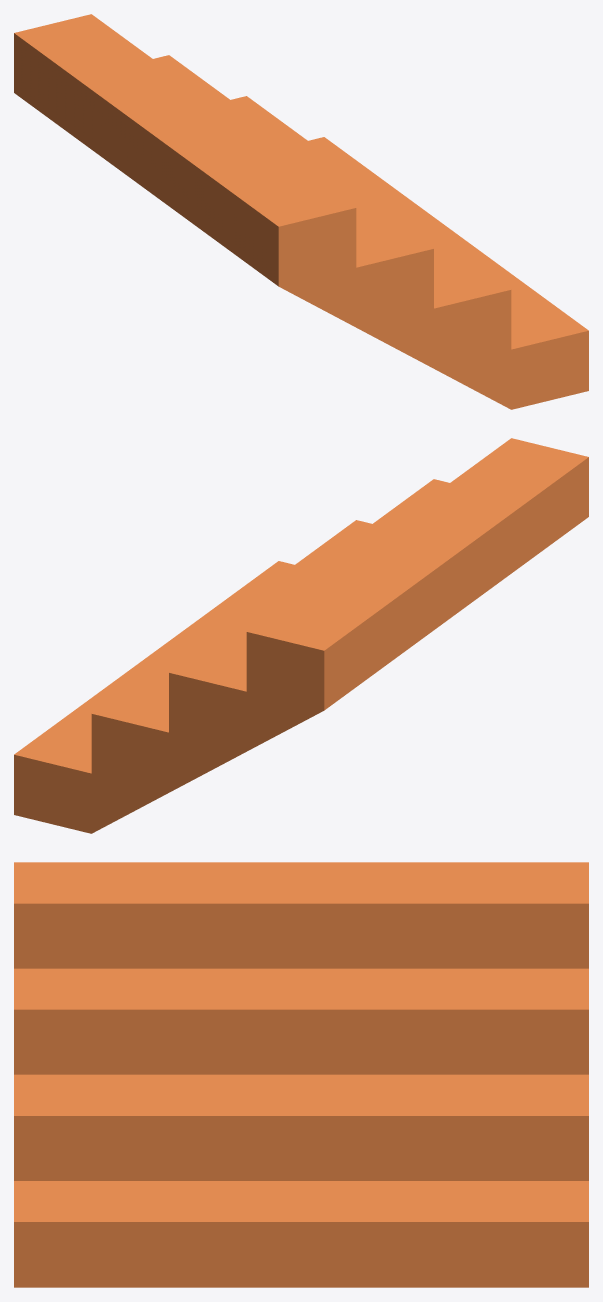
File: MD_Half_Stairs.fbx
3 views of the same model, one above another, from view 1: azimuth 30°, elevation 25°; view 2: azimuth 150°, elevation 25°; view 3: azimuth 270°, elevation 25° (orthographic). The views are drawn at different scales.
Parts seen in each view (by area): view 1: MD_Half_Stairs; view 2: MD_Half_Stairs; view 3: MD_Half_Stairs.
Boxes of the visible parts, box(x1,y1,x2,y2) form: MD_Half_Stairs: box(14, 14, 588, 409); MD_Half_Stairs: box(14, 438, 588, 833); MD_Half_Stairs: box(14, 862, 588, 1287).
Bounding box in the file's own units: 135 × 100 × 200.
